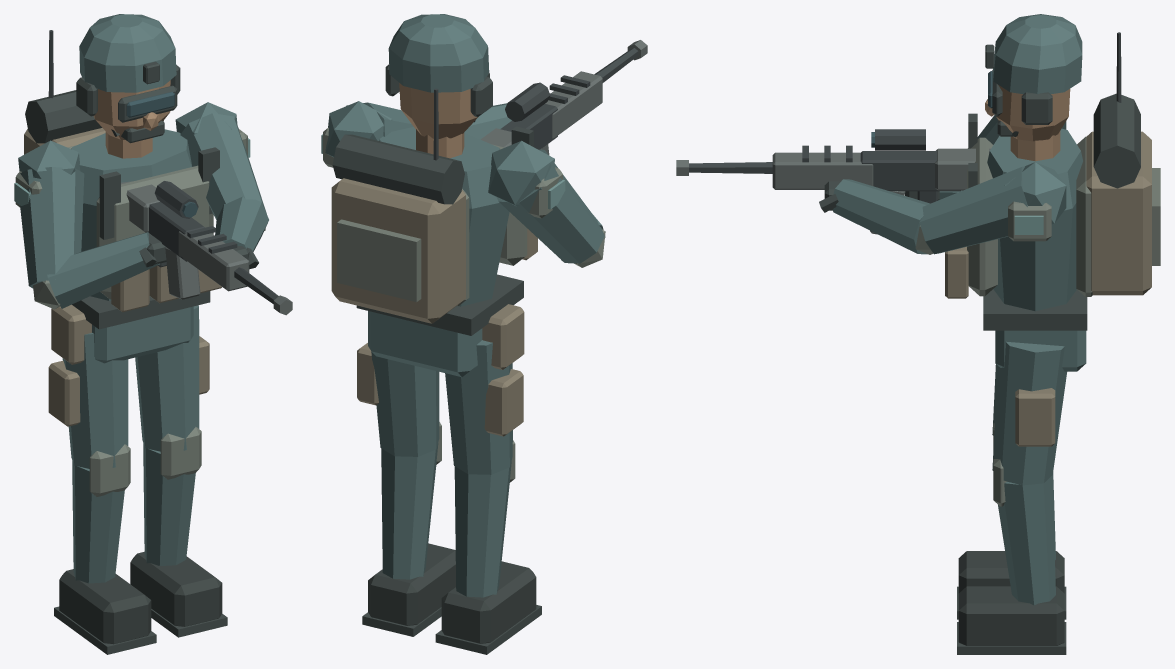
The model's file is soldier-parts.glb.
The picture shows the model from 3 angles, left to right: view 1: azimuth 30°, elevation 25°; view 2: azimuth 150°, elevation 25°; view 3: azimuth 270°, elevation 25°; orthographic projection. The views are drawn at different scales.
Parts seen in each view (by area): view 1: chest, head, weapon, upperarm_r, pelvis, thigh_r, thigh_l, shin_r, shin_l, foot_r, foot_l, upperarm_l (+3 smaller); view 2: chest, head, pelvis, upperarm_r, thigh_r, thigh_l, shin_r, shin_l, foot_r, weapon, foot_l, upperarm_l (+1 smaller); view 3: chest, weapon, head, upperarm_l, thigh_l, foot_l, shin_l, pelvis, forearm_l, foot_r.
Part boxes in pixels (bbox=[...]): chest: bbox=[24, 30, 221, 312]; head: bbox=[76, 14, 180, 143]; weapon: bbox=[121, 181, 292, 315]; upperarm_r: bbox=[14, 140, 84, 288]; pelvis: bbox=[51, 291, 210, 364]; thigh_r: bbox=[48, 333, 128, 468]; thigh_l: bbox=[135, 305, 209, 451]; shin_r: bbox=[72, 444, 130, 583]; shin_l: bbox=[143, 427, 201, 565]; foot_r: bbox=[54, 569, 156, 654]; foot_l: bbox=[130, 551, 227, 637]; upperarm_l: bbox=[175, 102, 266, 219]; chest: bbox=[331, 88, 537, 323]; head: bbox=[385, 14, 492, 138]; pelvis: bbox=[356, 274, 524, 376]; upperarm_r: bbox=[488, 140, 604, 263]; thigh_r: bbox=[445, 340, 523, 474]; thigh_l: bbox=[357, 343, 439, 456]; shin_r: bbox=[454, 440, 515, 597]; shin_l: bbox=[381, 422, 441, 579]; foot_r: bbox=[435, 561, 541, 654]; weapon: bbox=[480, 40, 647, 155]; foot_l: bbox=[362, 543, 455, 636]; upperarm_l: bbox=[321, 101, 413, 167]; chest: bbox=[945, 32, 1160, 311]; weapon: bbox=[676, 129, 990, 234]; head: bbox=[985, 14, 1082, 141]; upperarm_l: bbox=[919, 162, 1066, 254]; thigh_l: bbox=[992, 341, 1066, 485]; foot_l: bbox=[957, 586, 1066, 654]; shin_l: bbox=[993, 459, 1055, 605]; pelvis: bbox=[983, 289, 1087, 371]; forearm_l: bbox=[833, 179, 933, 254]; foot_r: bbox=[957, 551, 1066, 619].
Size of the model in its own units: 0.7668 by 1.82 by 1.33.
